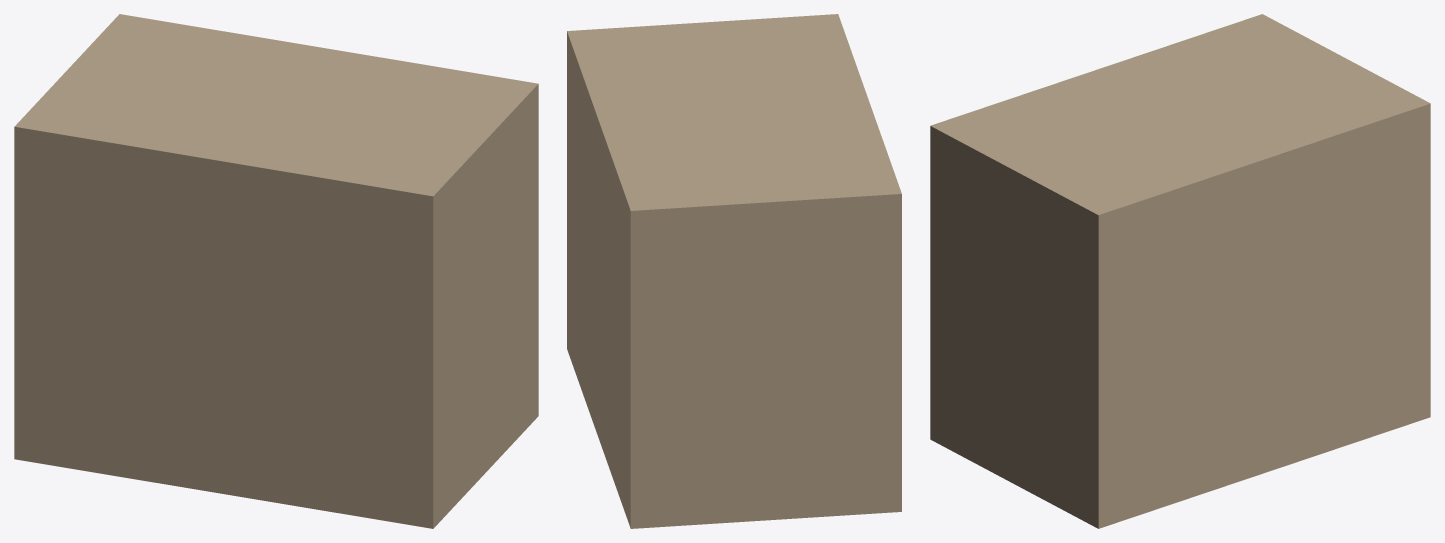
Rendered from bld_100478231.dae.
3 views of the same model, side by side, from view 1: azimuth 30°, elevation 25°; view 2: azimuth 150°, elevation 25°; view 3: azimuth 270°, elevation 25° (orthographic). The views are drawn at different scales.
Parts seen in each view (by area): view 1: bld_100478231; view 2: bld_100478231; view 3: bld_100478231.
Part boxes in pixels (x1,y1,x2,y2): bld_100478231: (14, 14, 538, 528); bld_100478231: (567, 14, 901, 528); bld_100478231: (930, 14, 1430, 528).
Bounding box in the file's own units: 11.01 × 11.57 × 8.
